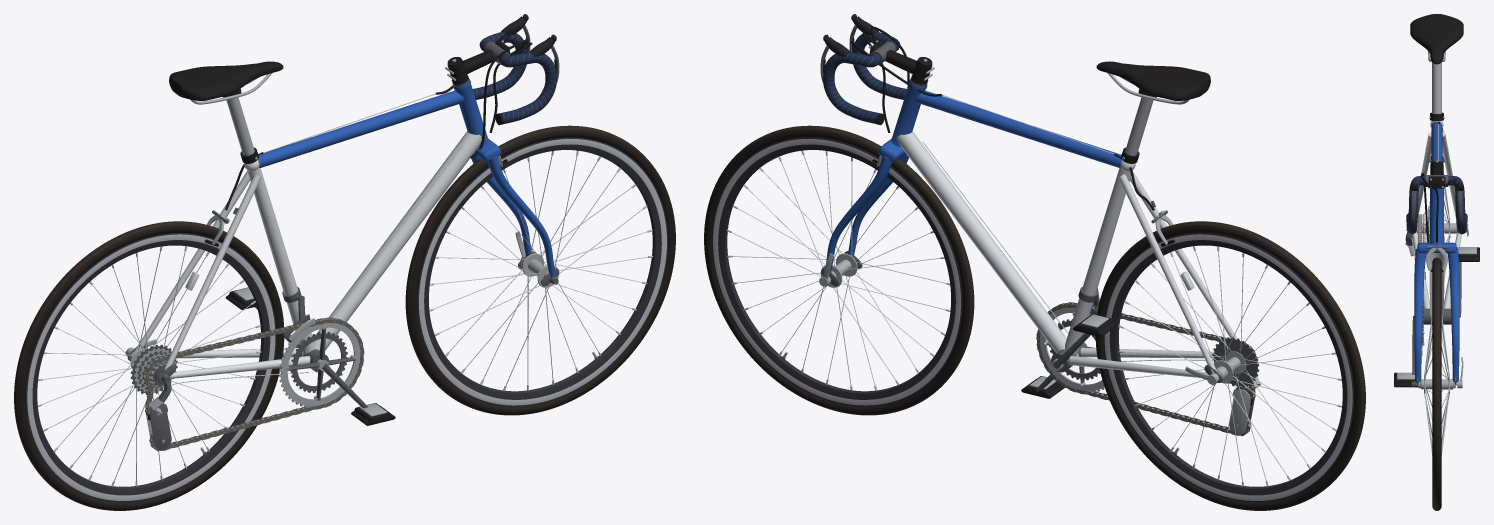
File: bicycle.glb
The picture shows the model from 3 angles, left to right: view 1: azimuth 30°, elevation 25°; view 2: azimuth 150°, elevation 25°; view 3: azimuth 270°, elevation 25°; orthographic projection. The views are drawn at different scales.
Visible parts, largest first — view 1: wheels, frame, spokes, drivetrain, cockpit, saddle, chain, fork, cables, derailleurs; view 2: wheels, frame, spokes, cockpit, drivetrain, saddle, chain, fork, cables, derailleurs; view 3: frame, wheels, fork, saddle, cockpit, drivetrain, spokes, cables, brakes, chain, derailleurs.
Boxes of the visible parts, <box> form: wheels: <box>14,125,675,510</box>; frame: <box>127,78,559,383</box>; spokes: <box>37,150,653,486</box>; drivetrain: <box>130,287,395,425</box>; cockpit: <box>445,14,559,125</box>; saddle: <box>169,61,283,155</box>; chain: <box>143,317,364,451</box>; fork: <box>471,139,555,277</box>; cables: <box>171,29,532,385</box>; derailleurs: <box>146,287,315,449</box>; wheels: <box>704,125,1365,510</box>; frame: <box>821,78,1237,382</box>; spokes: <box>726,150,1341,486</box>; cockpit: <box>820,14,934,125</box>; drivetrain: <box>1021,303,1259,398</box>; saddle: <box>1096,61,1210,155</box>; chain: <box>1036,302,1257,436</box>; fork: <box>826,139,908,276</box>; cables: <box>850,26,1212,361</box>; derailleurs: <box>1078,287,1261,434</box>; frame: <box>1412,112,1461,385</box>; wheels: <box>1406,219,1468,510</box>; fork: <box>1414,242,1459,382</box>; saddle: <box>1410,14,1463,113</box>; cockpit: <box>1406,160,1467,234</box>; drivetrain: <box>1394,206,1479,387</box>; spokes: <box>1424,171,1449,455</box>; cables: <box>1411,121,1451,259</box>; brakes: <box>1425,148,1448,271</box>; chain: <box>1417,214,1422,355</box>; derailleurs: <box>1405,231,1427,279</box>.
Bounding box in the file's own units: 1.27 × 0.7683 × 0.1756.
15 materials, 2 textured.
